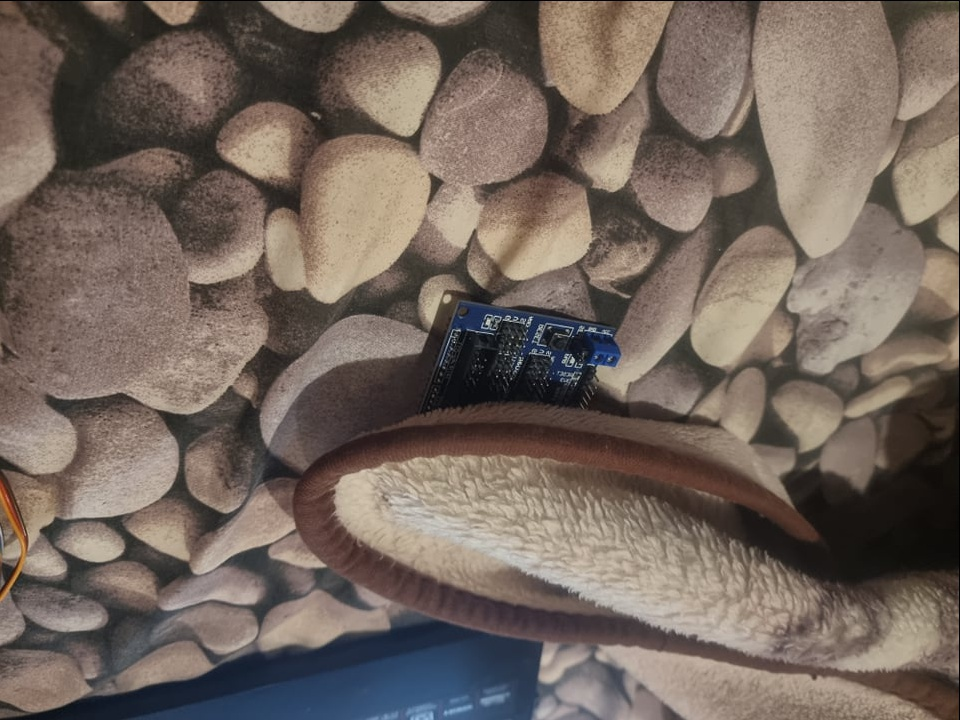5V EXPANSION: (416, 296, 623, 419)
